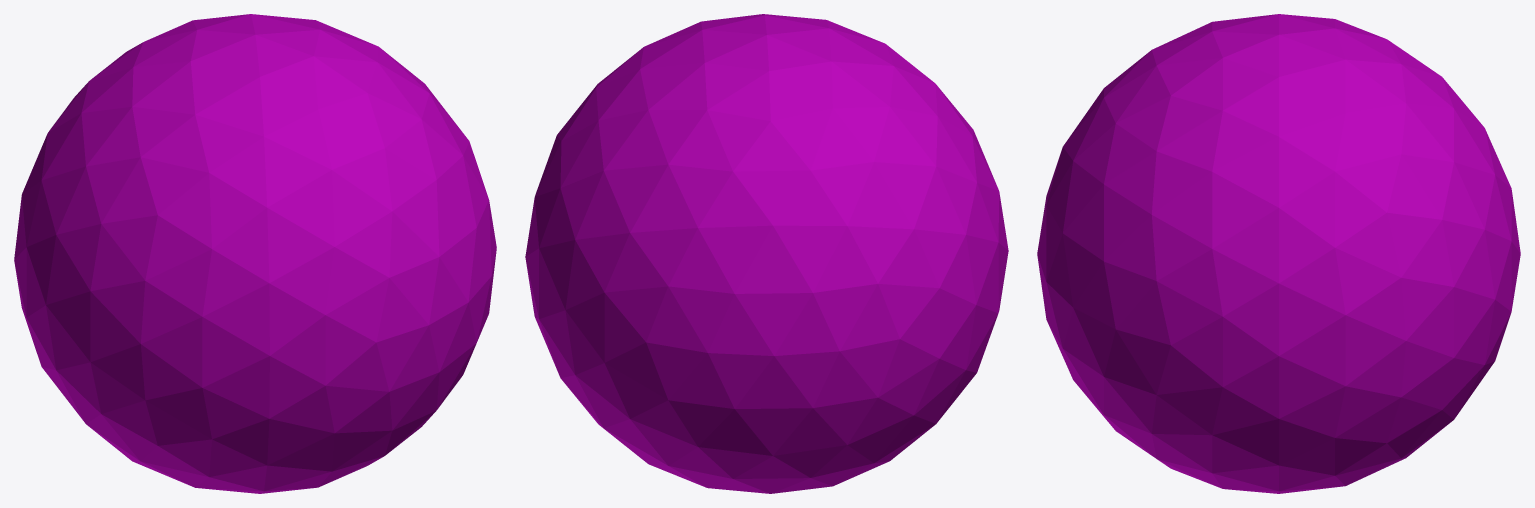
The model's file is iodide.fbx.
The picture shows the model from 3 angles, left to right: view 1: azimuth 30°, elevation 25°; view 2: azimuth 150°, elevation 25°; view 3: azimuth 270°, elevation 25°; orthographic projection.
Parts seen in each view (by area): view 1: Shape_IndexedFaceSet; view 2: Shape_IndexedFaceSet; view 3: Shape_IndexedFaceSet.
Boxes of the visible parts, left/top/right/bottom form: Shape_IndexedFaceSet: left=14, top=14, right=496, bottom=493; Shape_IndexedFaceSet: left=525, top=14, right=1008, bottom=493; Shape_IndexedFaceSet: left=1037, top=14, right=1520, bottom=493.
Bounding box in the file's own units: 910 × 910 × 910.
